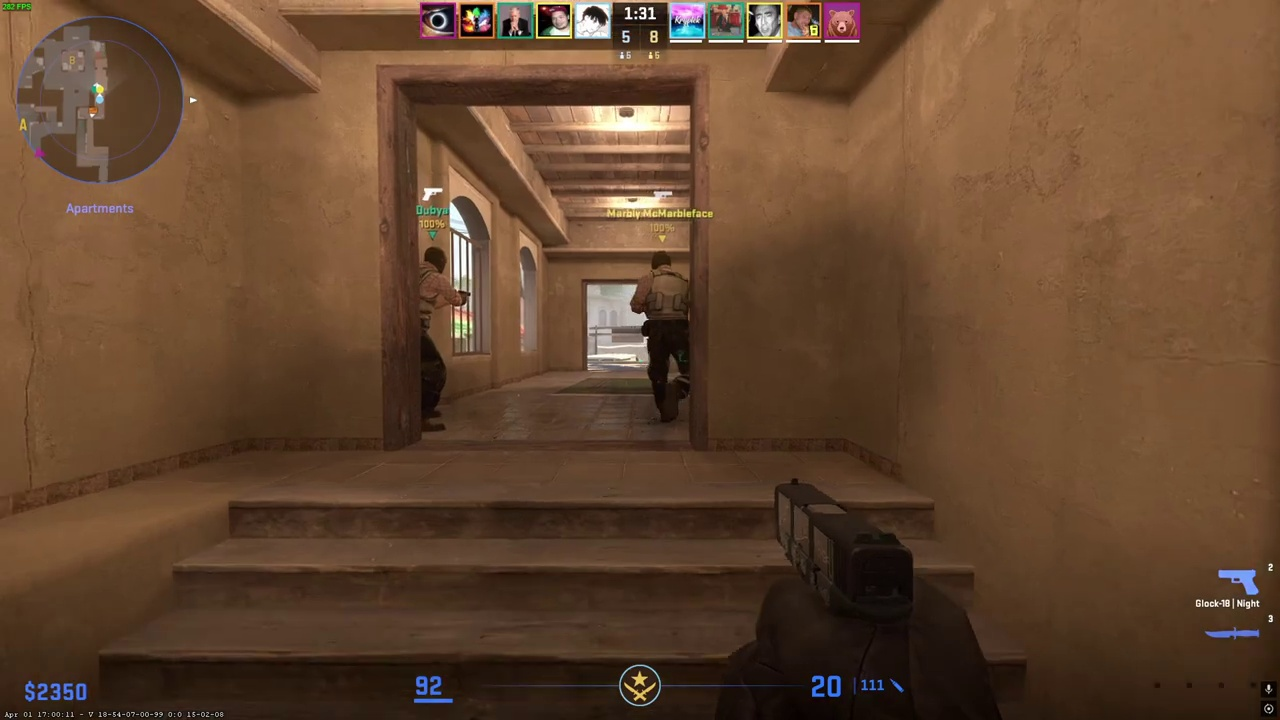Terrorist: (638, 250, 690, 422), (417, 246, 460, 432)
